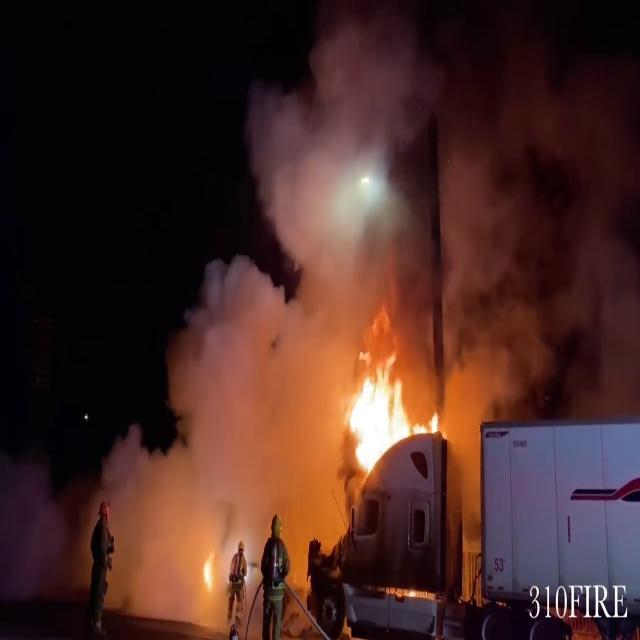Fire: (338, 354, 440, 481)
Smoke: (94, 230, 376, 630)
